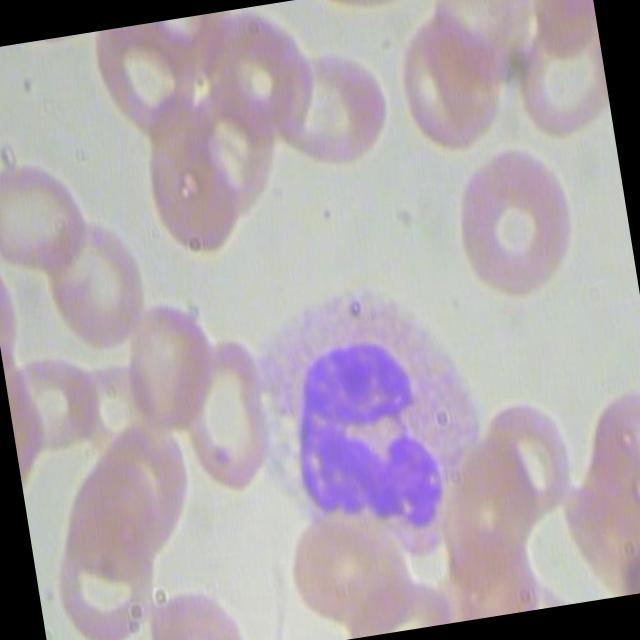RBC: (430, 134, 596, 323), (253, 39, 398, 179), (109, 289, 225, 436), (38, 208, 154, 354), (0, 147, 97, 283)
WBC: (212, 261, 509, 602)
